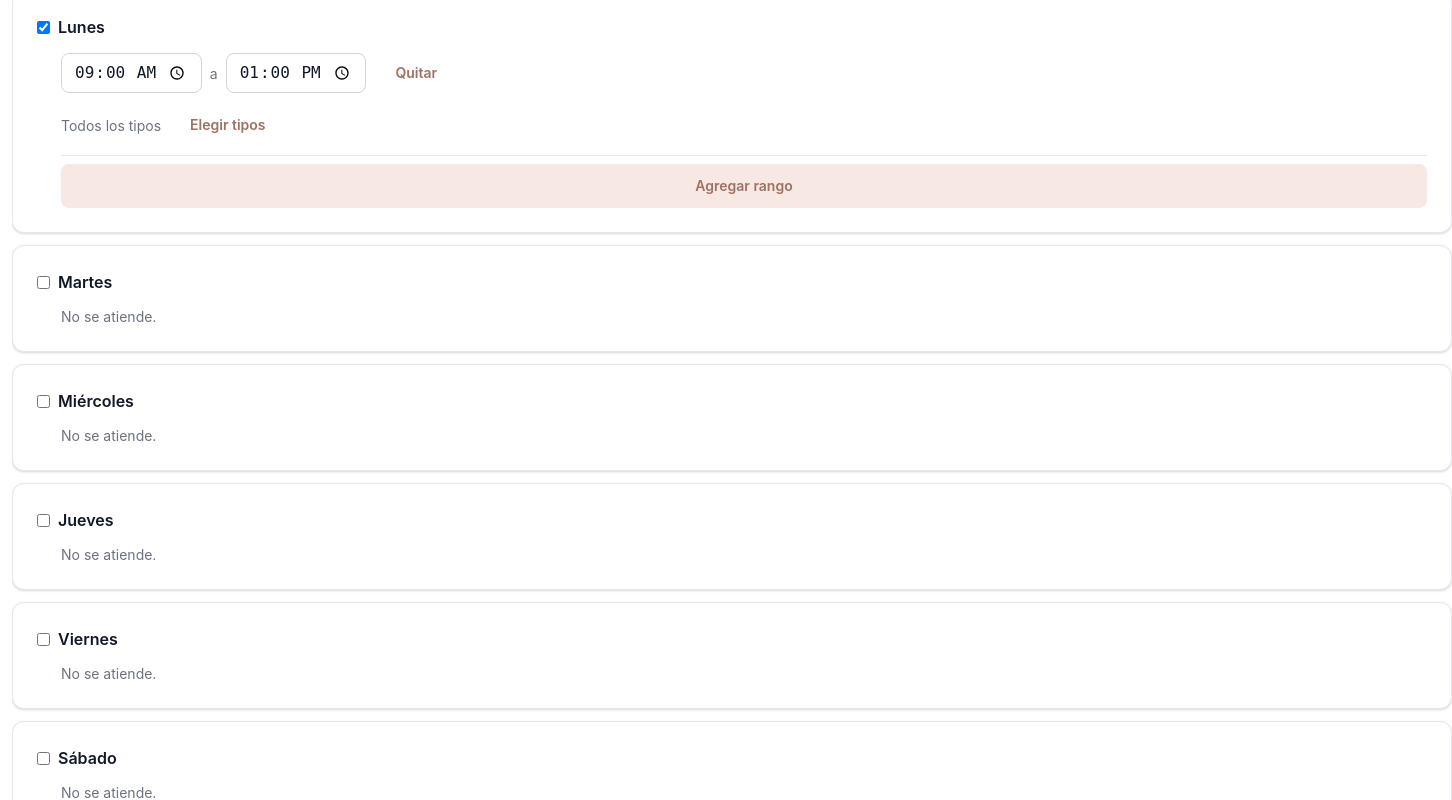
Test: ScheduleEditor › Visit Kinds per range › restricts a range to the ticked kinds and saves them
Click the button "Elegir tipos": (228, 125) [169,103,287,147]
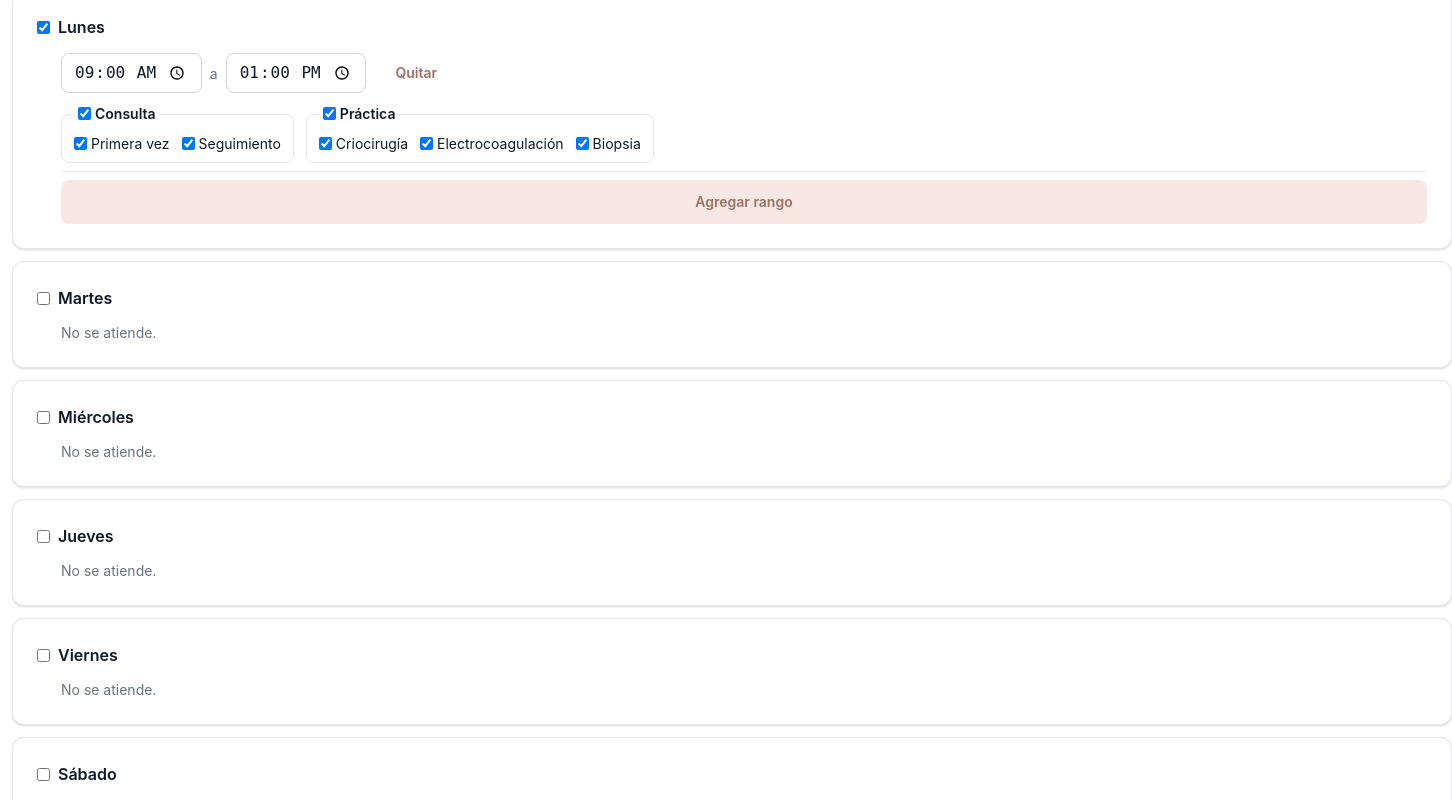
Click the checkbox labelled "Práctica": (329, 114) [323,107,336,120]
(page scrolled)
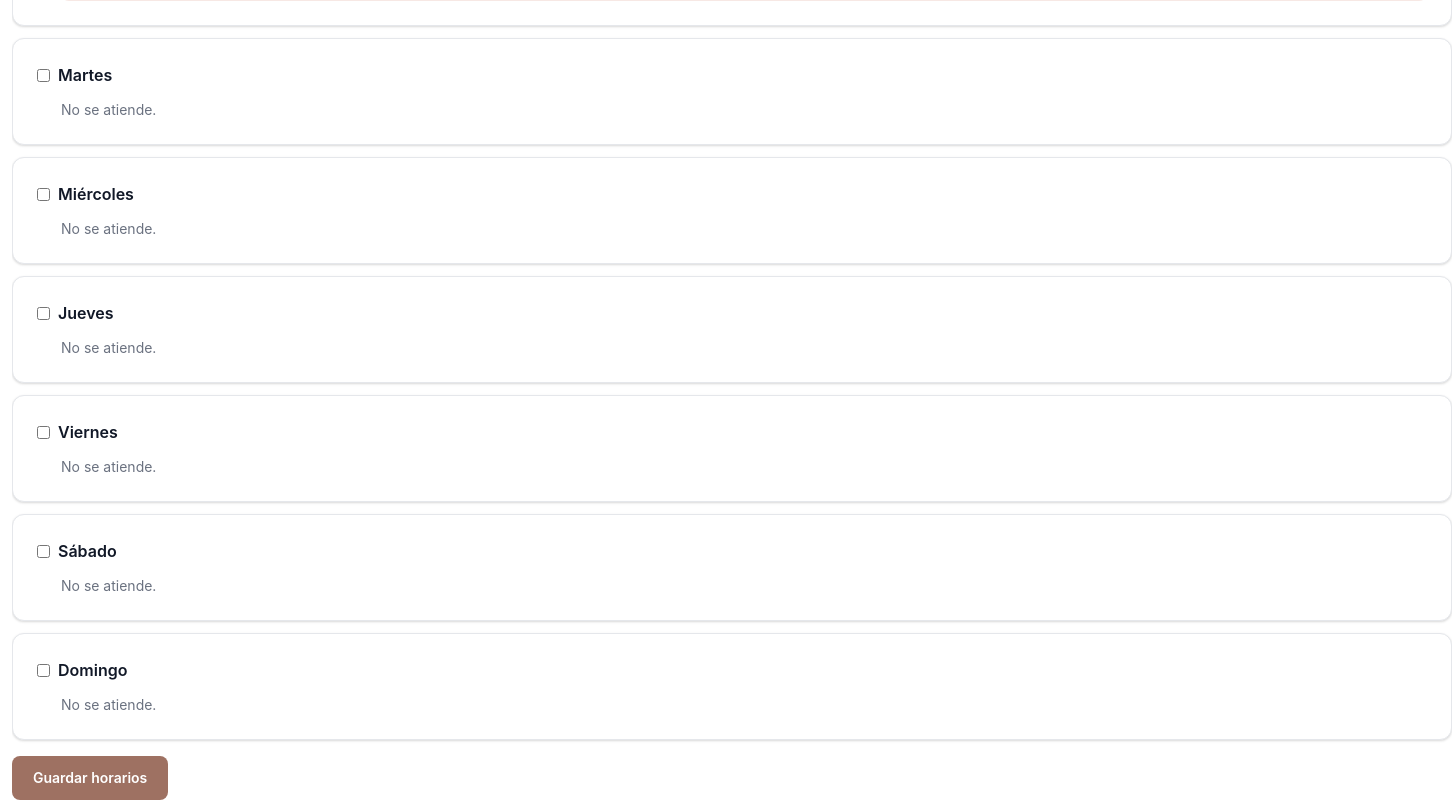
Click the button "Guardar horarios": (90, 778) [12,756,168,799]
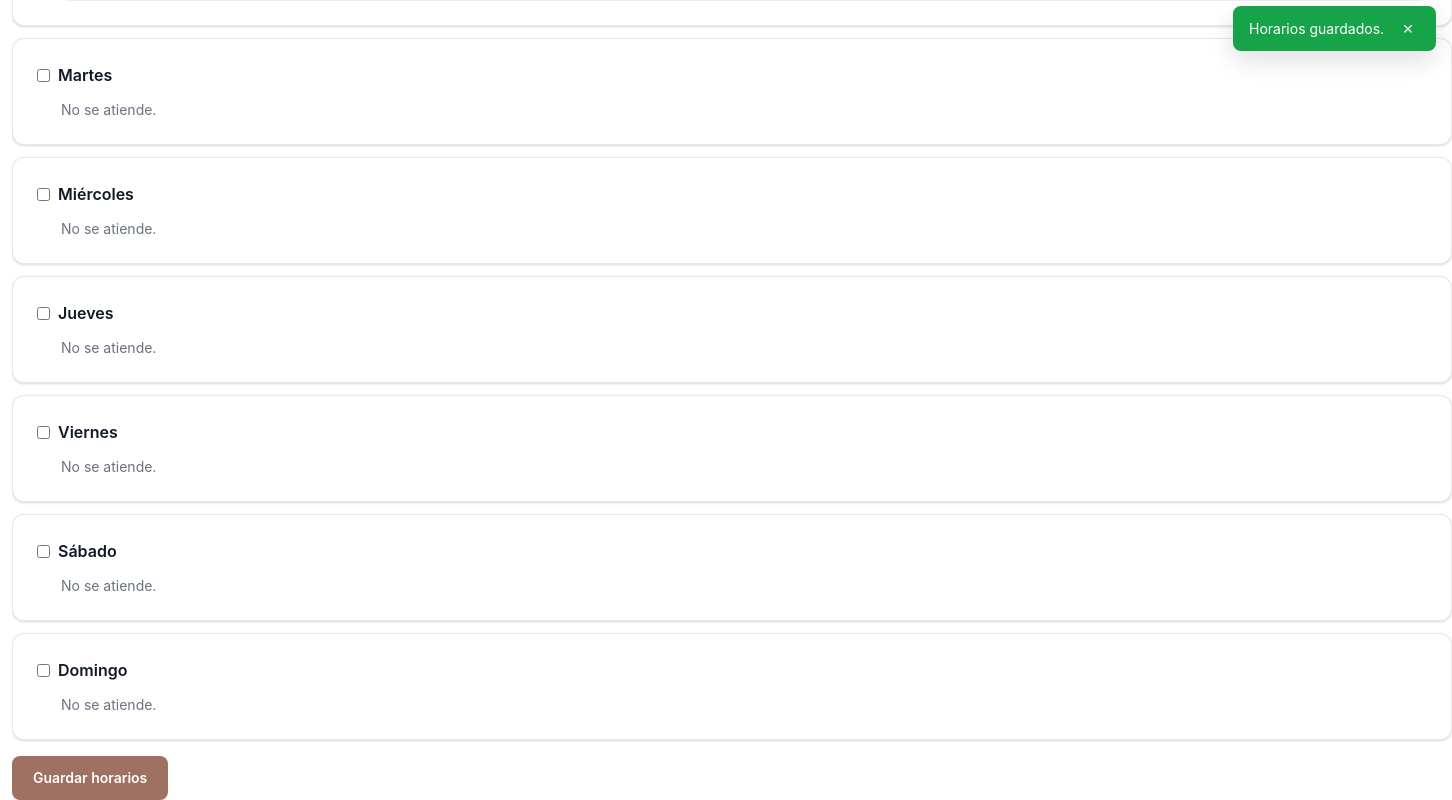
Expected: the message "Horarios guardados. ×" is shown, [1233,6,1436,51]
